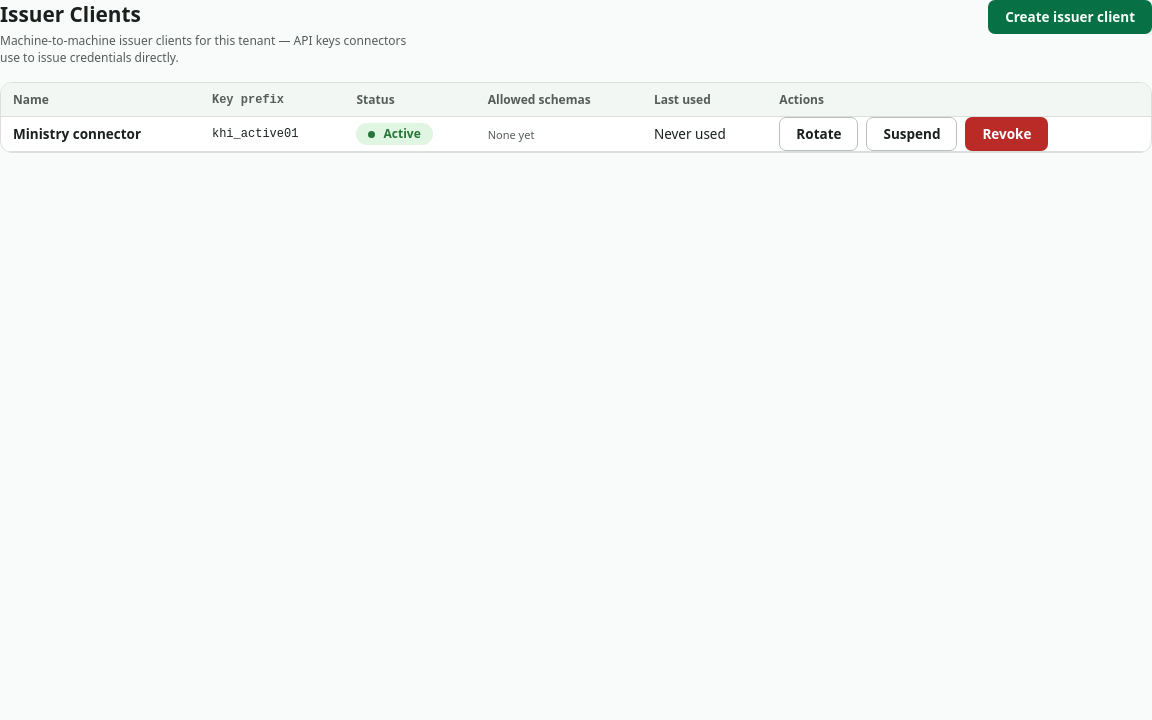
Test: ClientsPage — revoke › surfaces a KH-ICL error with code and traceId via the standard error banner
Click the button "Revoke" at (1007, 134), box [966,117,1048,151]
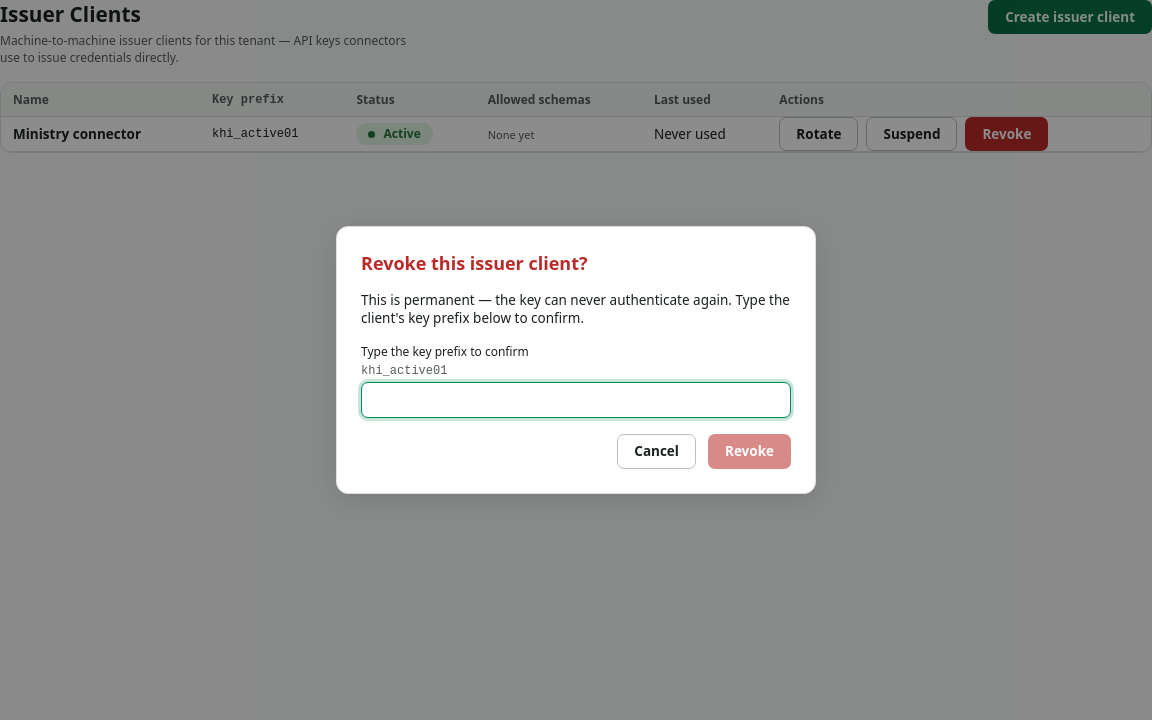
Type "khi_active01" into the field at (576, 400), box [361,382,791,418]
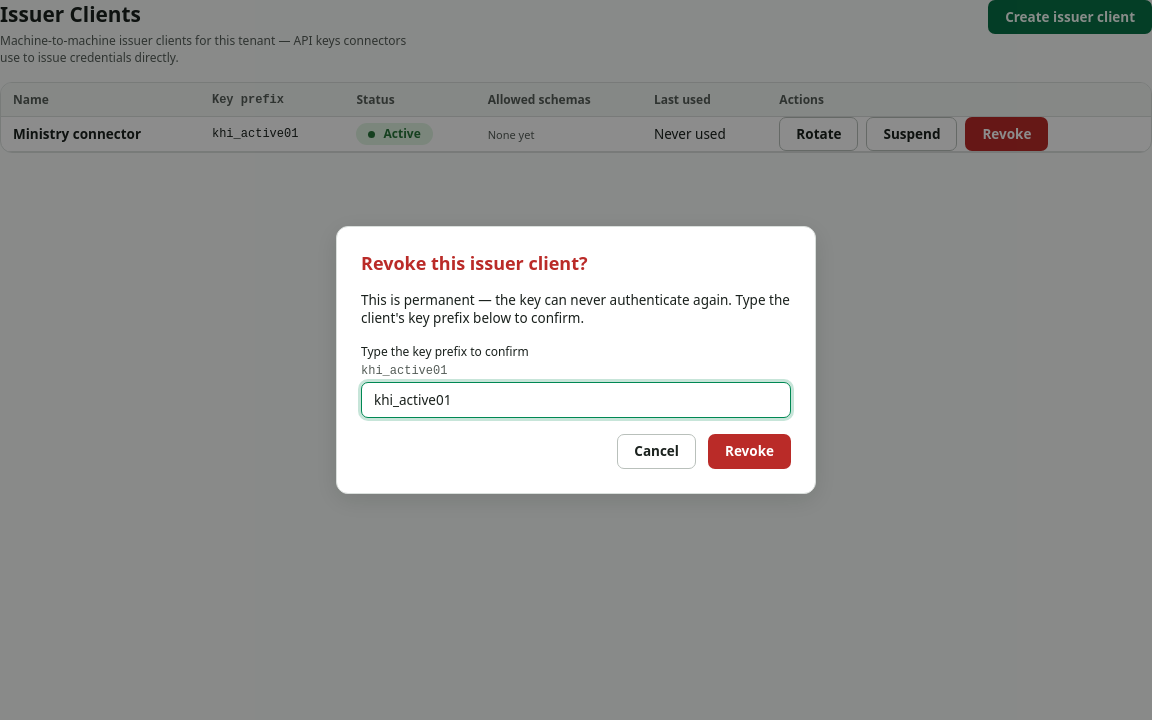
Click the button "Revoke" at (750, 452), box [708,434,791,469]
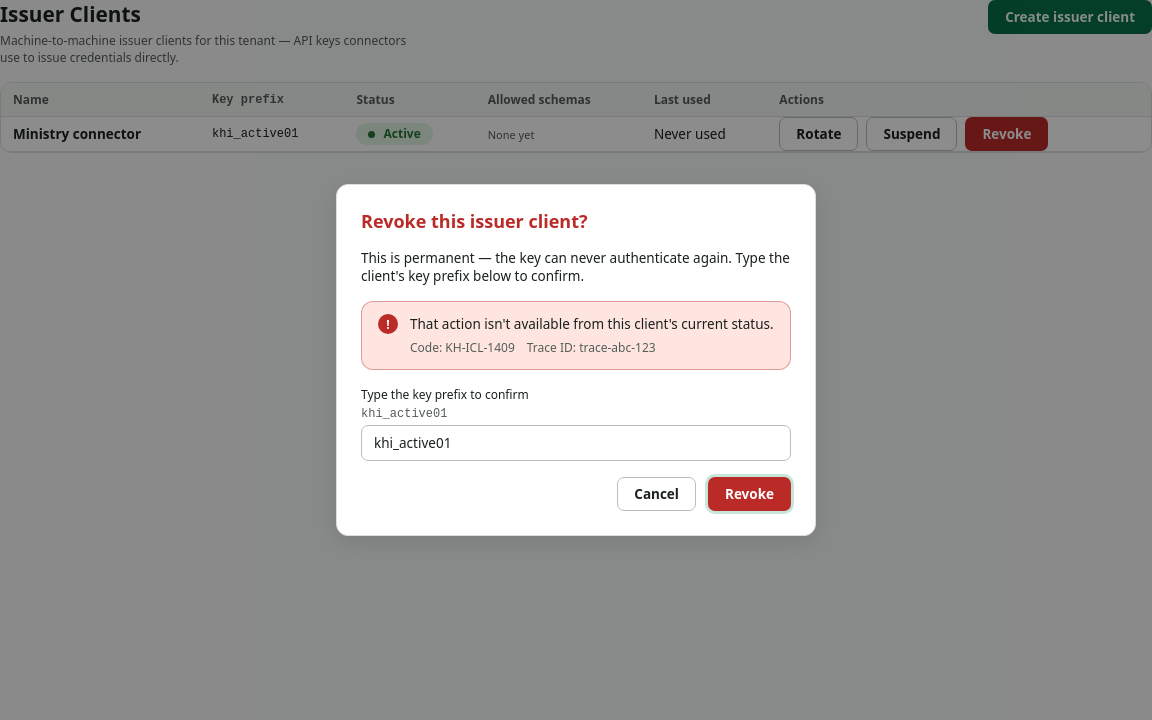
Check: the text "KH-ICL-1409" is shown, box [445,338,515,356]
Check: the text "trace-abc-123" is shown, box [579,338,656,356]
